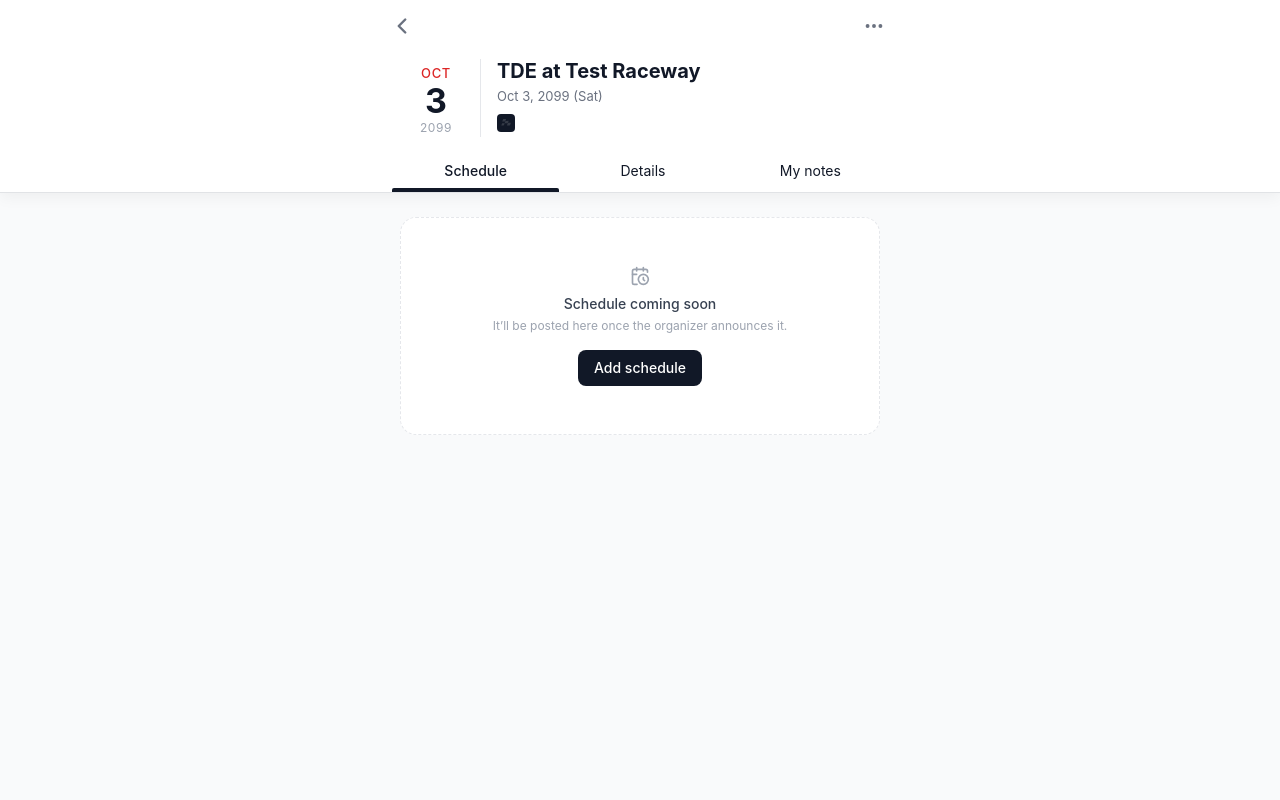
Test case: schedule editor (#232) › also opens from the header’s … menu
Click the button named "More actions" at (874,26), box [856,8,892,44]
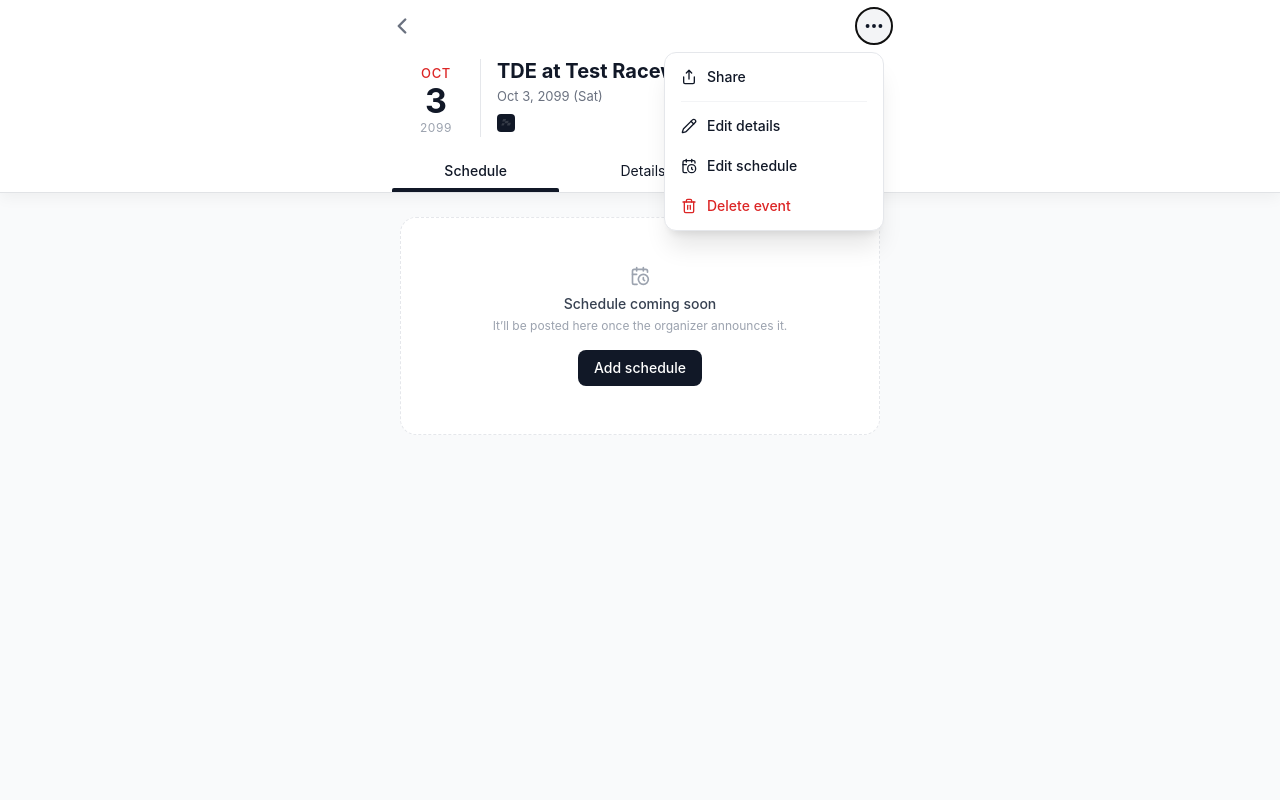
Click the menu item "Edit schedule" at (774,166), box [669,146,879,186]
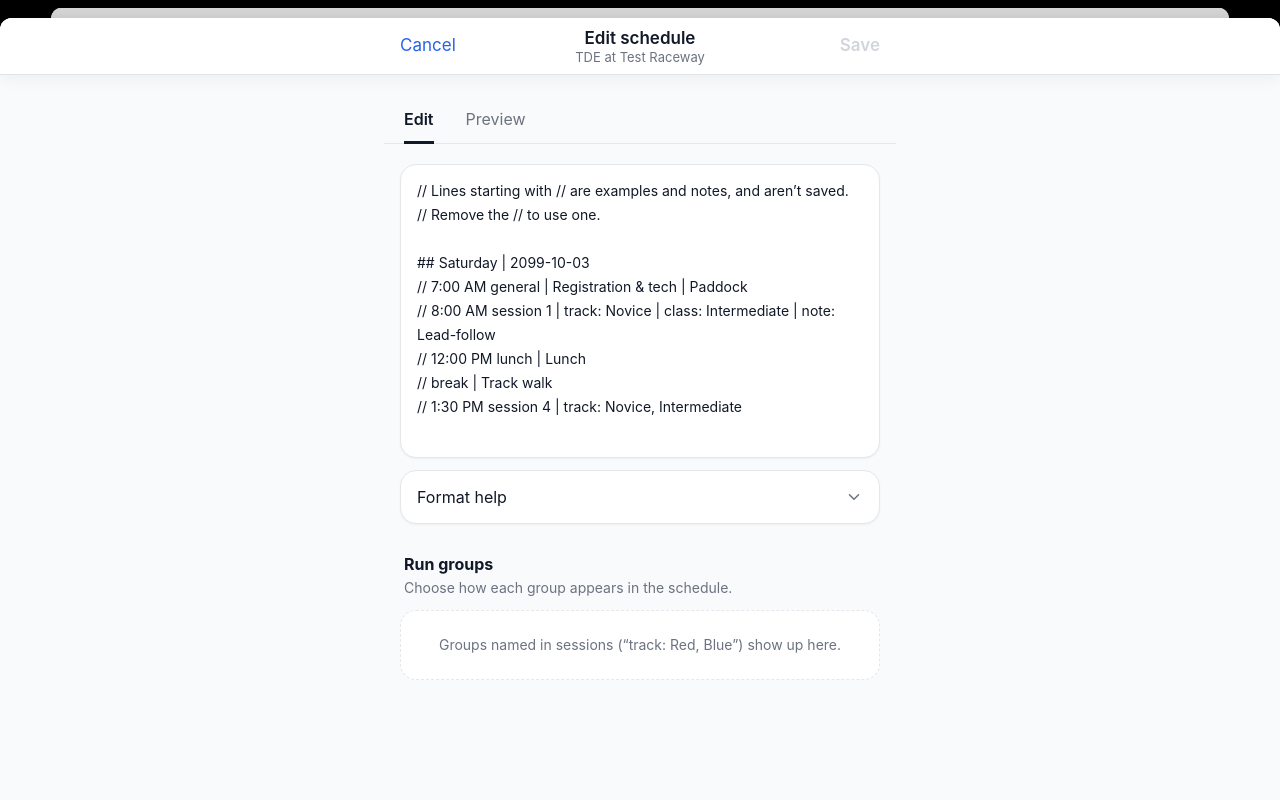
Now the text box named "Schedule" is shown, box [400,164,880,458]
